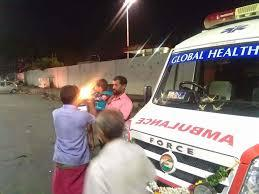Emergency-Vehicles: (91, 0, 259, 194)
